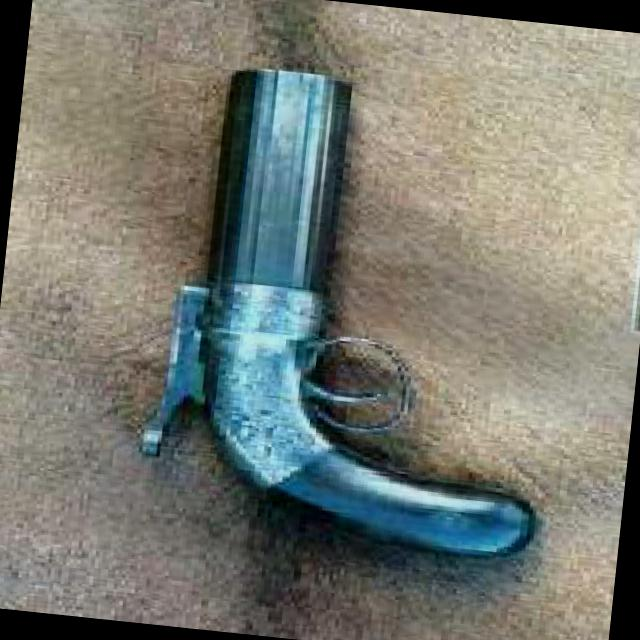handgun: (117, 52, 562, 566)
